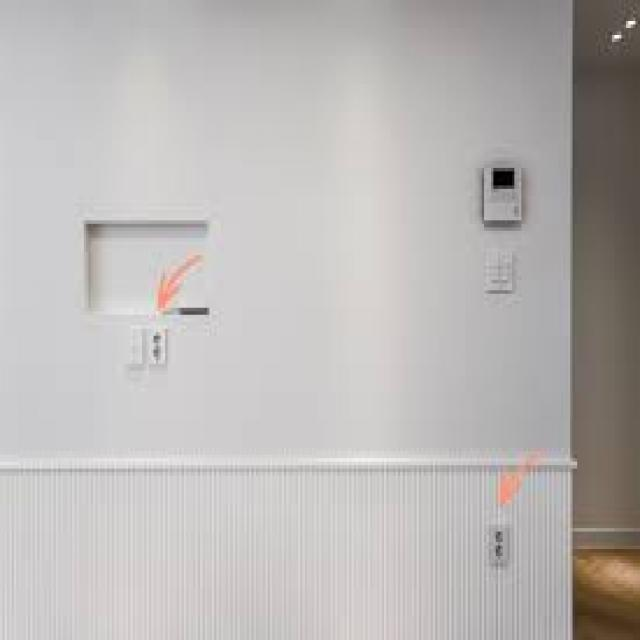typeb: (480, 514, 520, 576), (148, 323, 172, 374)
